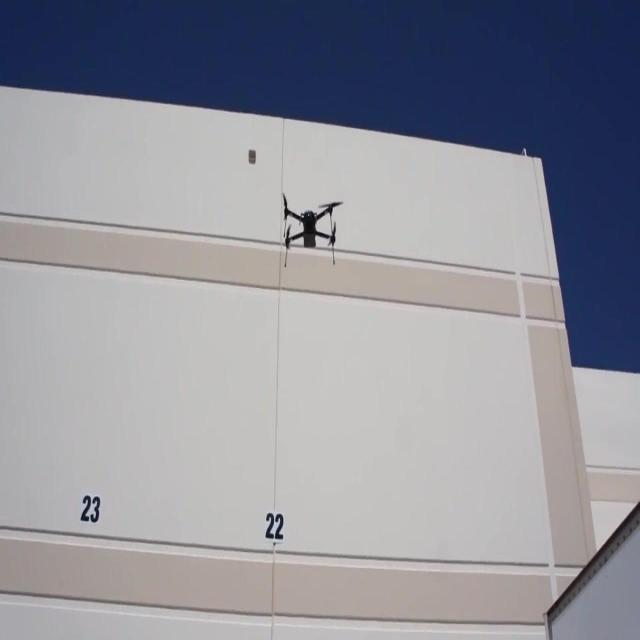drone: (282, 194, 342, 272)
